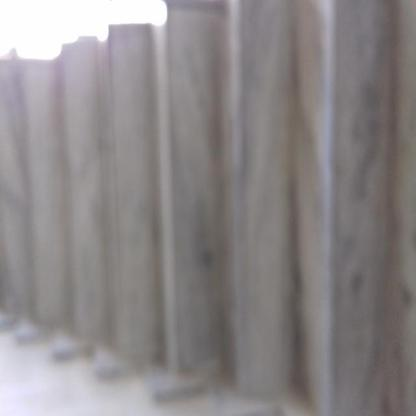stair: (0, 14, 416, 393)
